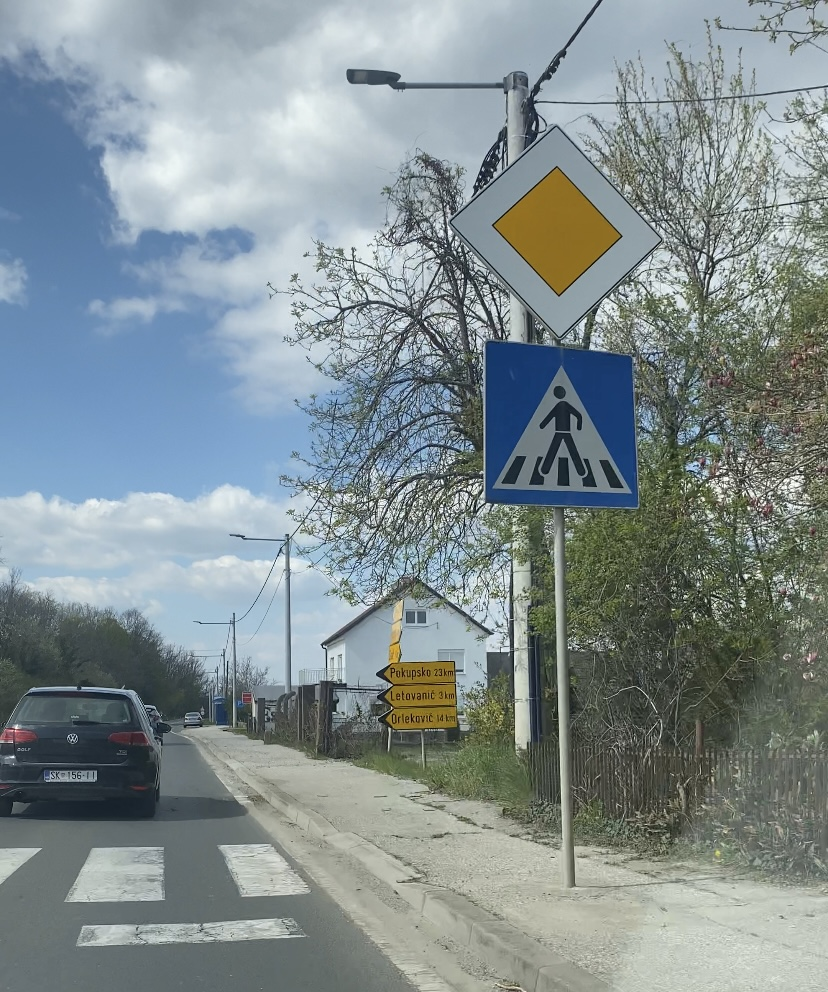Cesta s prednošću prolaska: (447, 124, 664, 339)
Pješački prijelaz: (482, 339, 640, 510)
